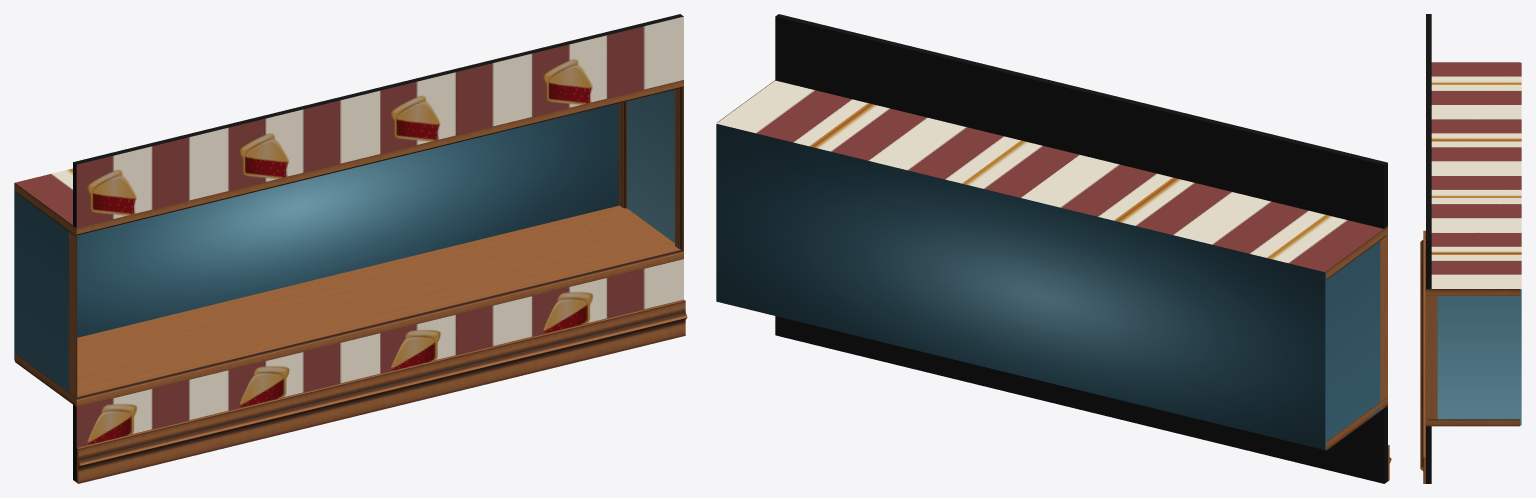
Rendered from Wall_Window__DoubleDisplay_A_04.FBX.
The picture shows the model from 3 angles, left to right: view 1: azimuth 30°, elevation 25°; view 2: azimuth 150°, elevation 25°; view 3: azimuth 270°, elevation 25°; orthographic projection. The views are drawn at different scales.
Parts seen in each view (by area): view 1: Wall_Window Display; view 2: Wall_Window Display; view 3: Wall_Window Display.
Part boxes in pixels (x1,y1,x2,y2): Wall_Window Display: (14, 14, 687, 483); Wall_Window Display: (716, 14, 1391, 483); Wall_Window Display: (1420, 14, 1521, 483).
Size of the model in its own units: 1000 by 500 by 189.
